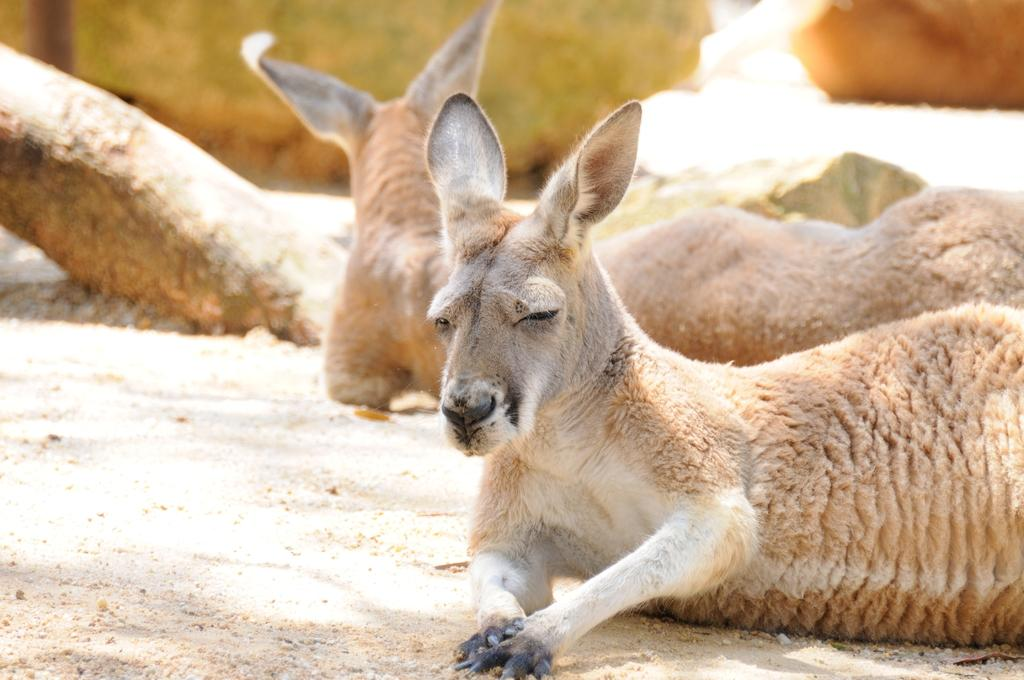kangaroo: (422, 96, 1024, 679), (240, 0, 1024, 412)
